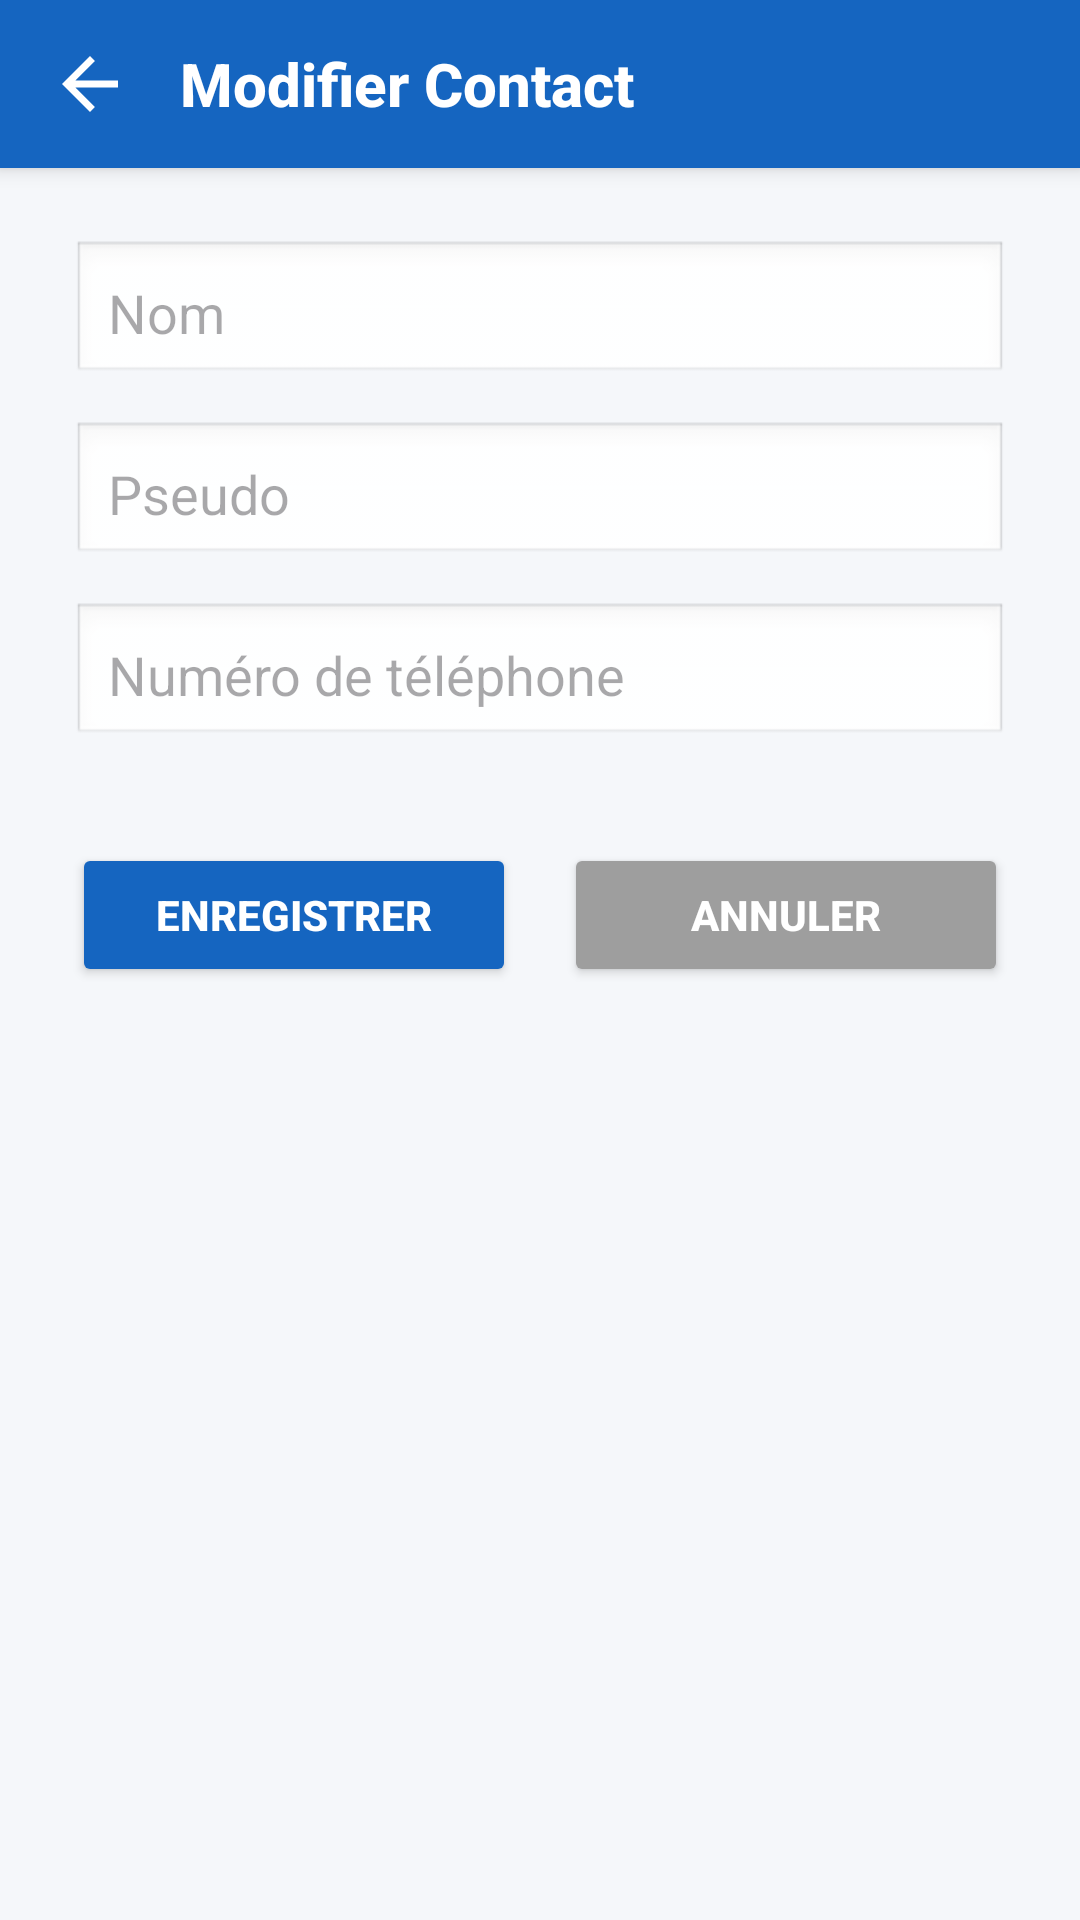

Screen size 1080 × 1920. Icon name, then its box in pixels as bbox=[x1, y1, x2, y2]:
Retour: bbox=[62, 56, 118, 112]
